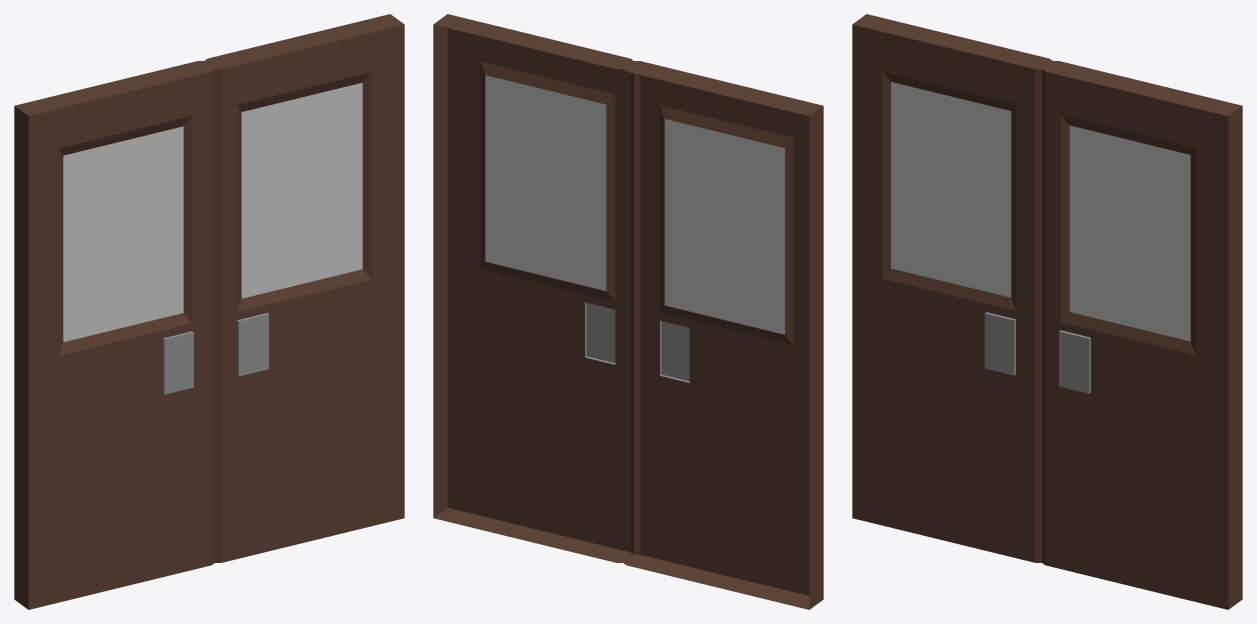
File: frontdoors.fbx
The picture shows the model from 3 angles, left to right: view 1: azimuth 30°, elevation 25°; view 2: azimuth 150°, elevation 25°; view 3: azimuth 330°, elevation 25°; orthographic projection.
Visible parts, largest first — view 1: FrontDoor; view 2: FrontDoor; view 3: FrontDoor.
Part boxes in pixels (box(x1,y1,x2,y2)): FrontDoor: box(14, 14, 404, 609); FrontDoor: box(433, 14, 823, 609); FrontDoor: box(852, 14, 1242, 609).
Bounding box in the file's own units: 252 × 316 × 18.59.
